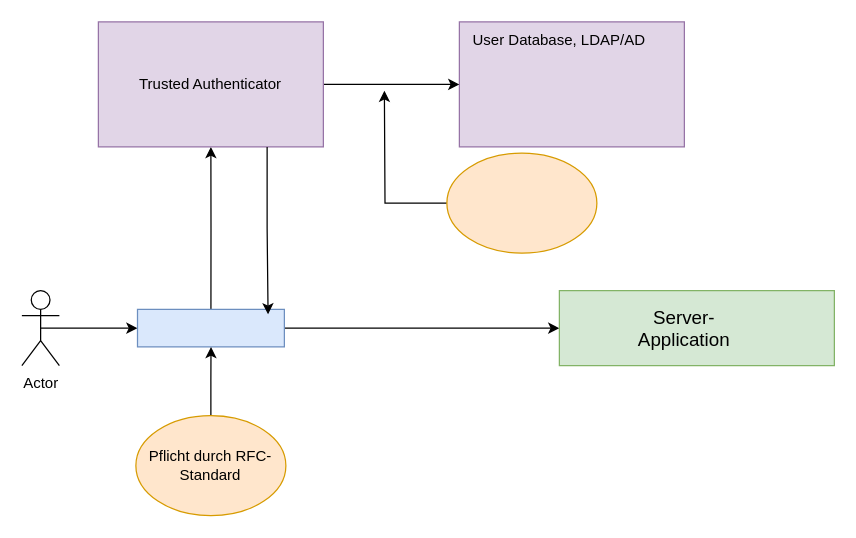
Image size: 856x538. Some labels were removed from this diagram. Here are the shapes that lost their labels. From the top down, the centre of each, then its label:
point 521,202: User Federation
point 210,327: TLS / HTTPS
